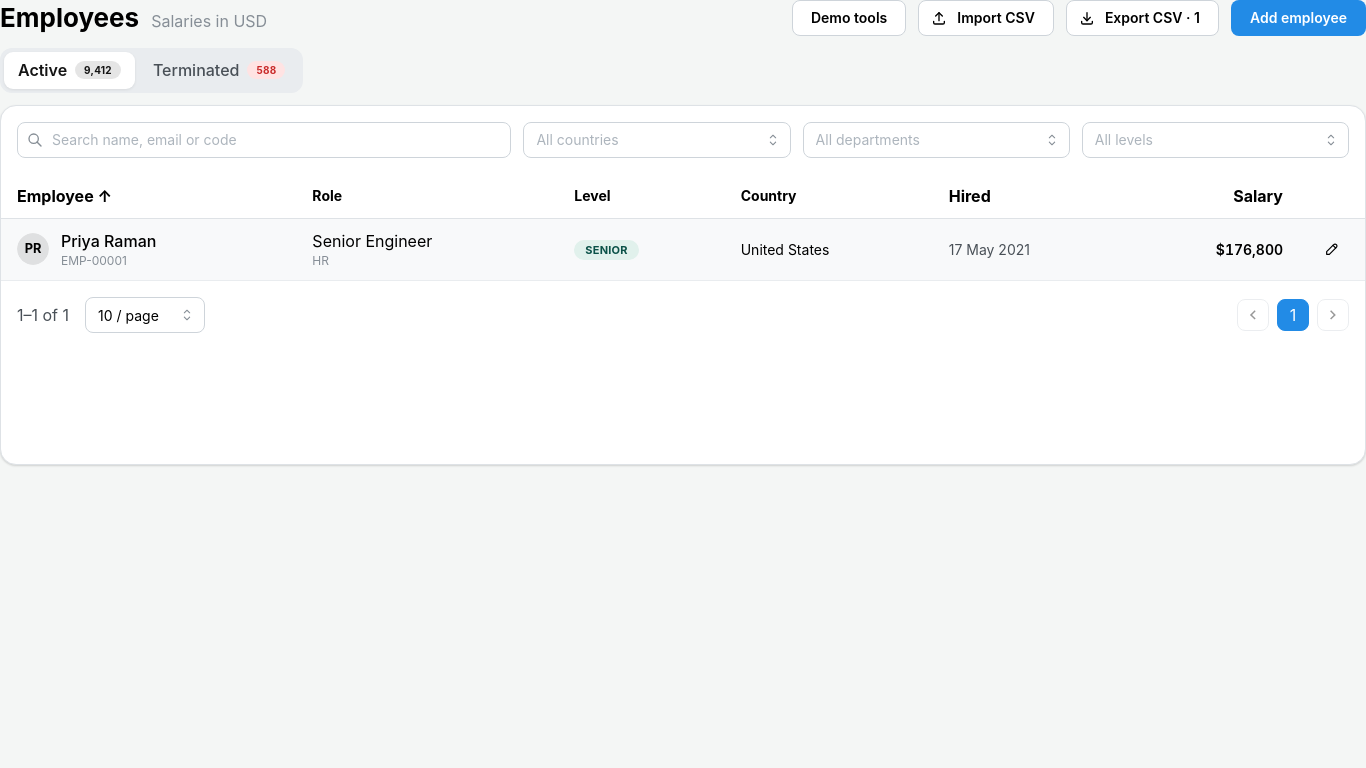
it: EmployeesPage › edits a row, closes the modal and refreshes the list
Expected: the text "Priya Raman" is shown, x1=61 y1=229 x2=156 y2=253
Click the button named "Edit Priya Raman" at (1332, 249), box x1=1315 y1=232 x2=1349 y2=266
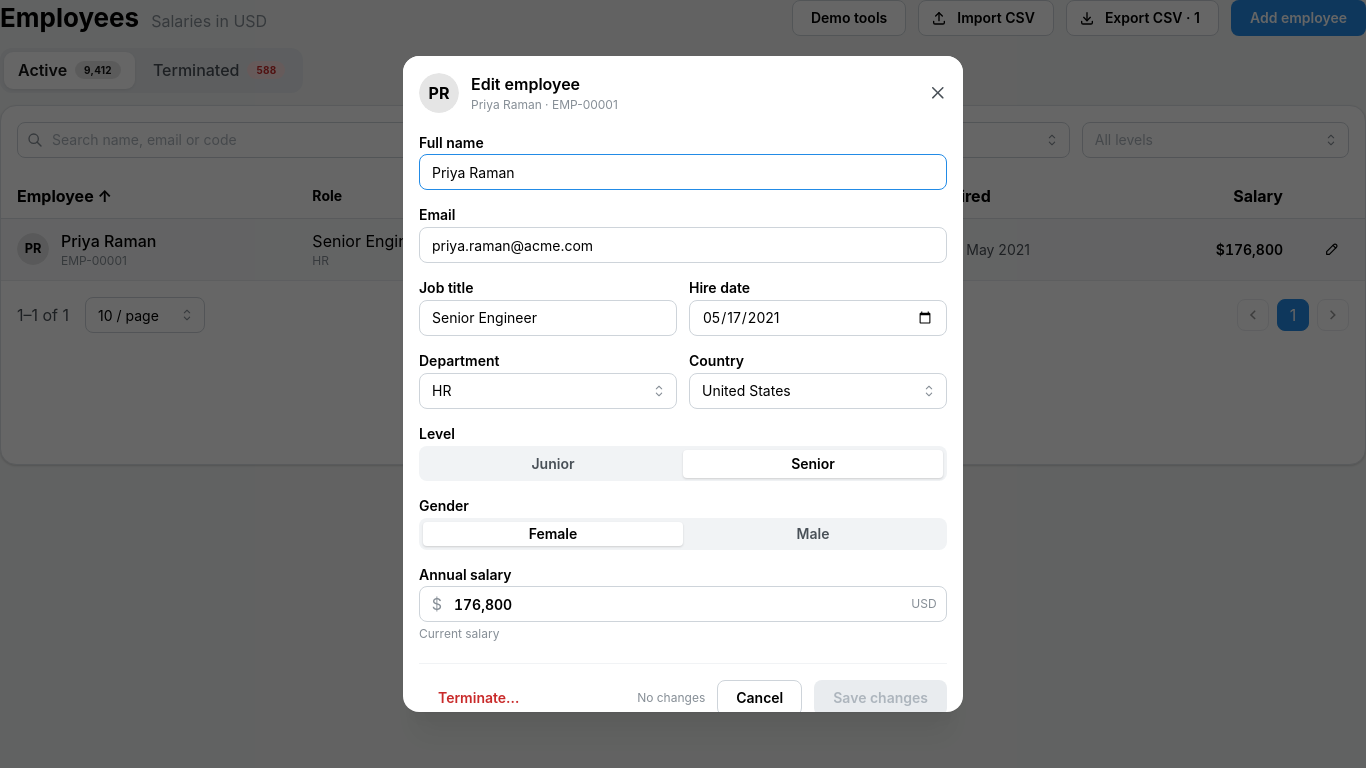
Expected: the field labelled "Full name" holds "Priya Raman", x1=419 y1=154 x2=947 y2=190
Replace the text in the field labelled "Annual salary" with "180000" at (683, 604), box x1=419 y1=586 x2=947 y2=622
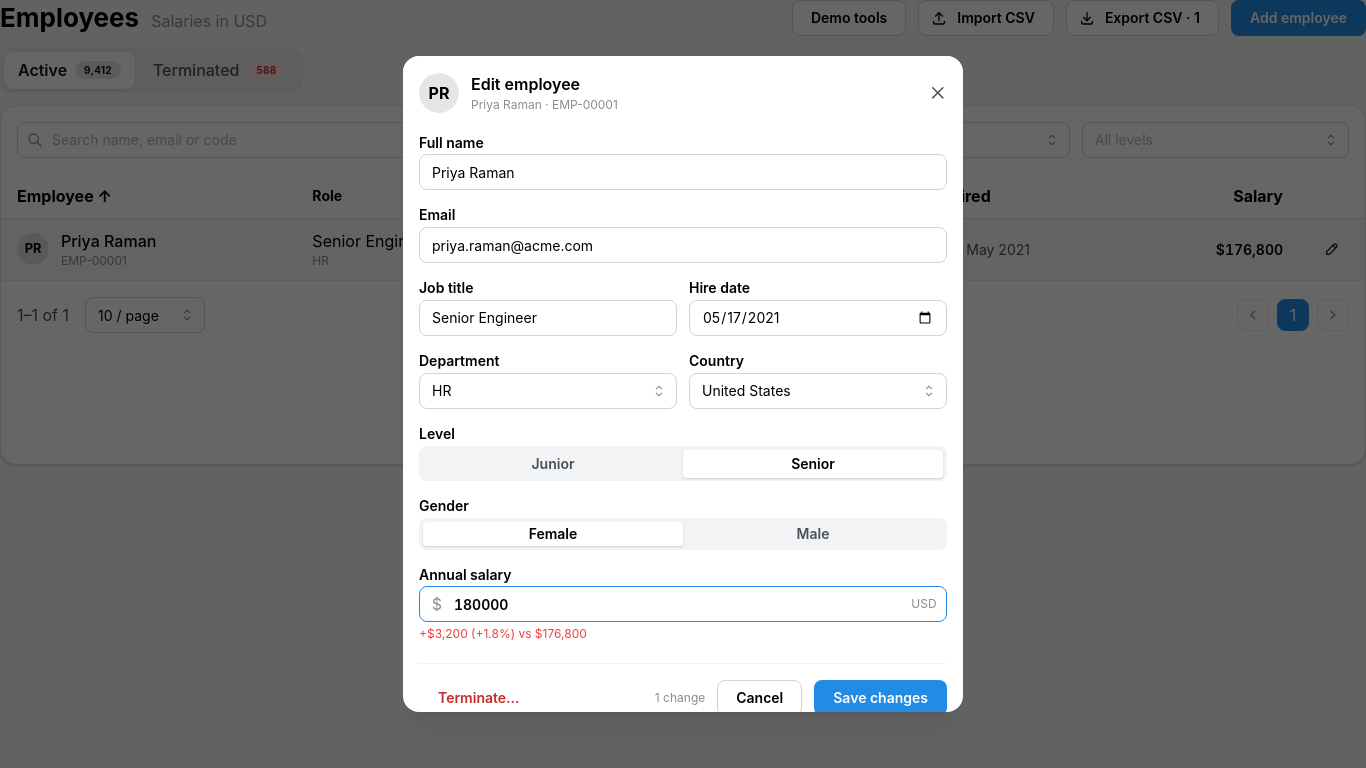
Click the button "Save changes" at (881, 698), box x1=814 y1=680 x2=947 y2=716
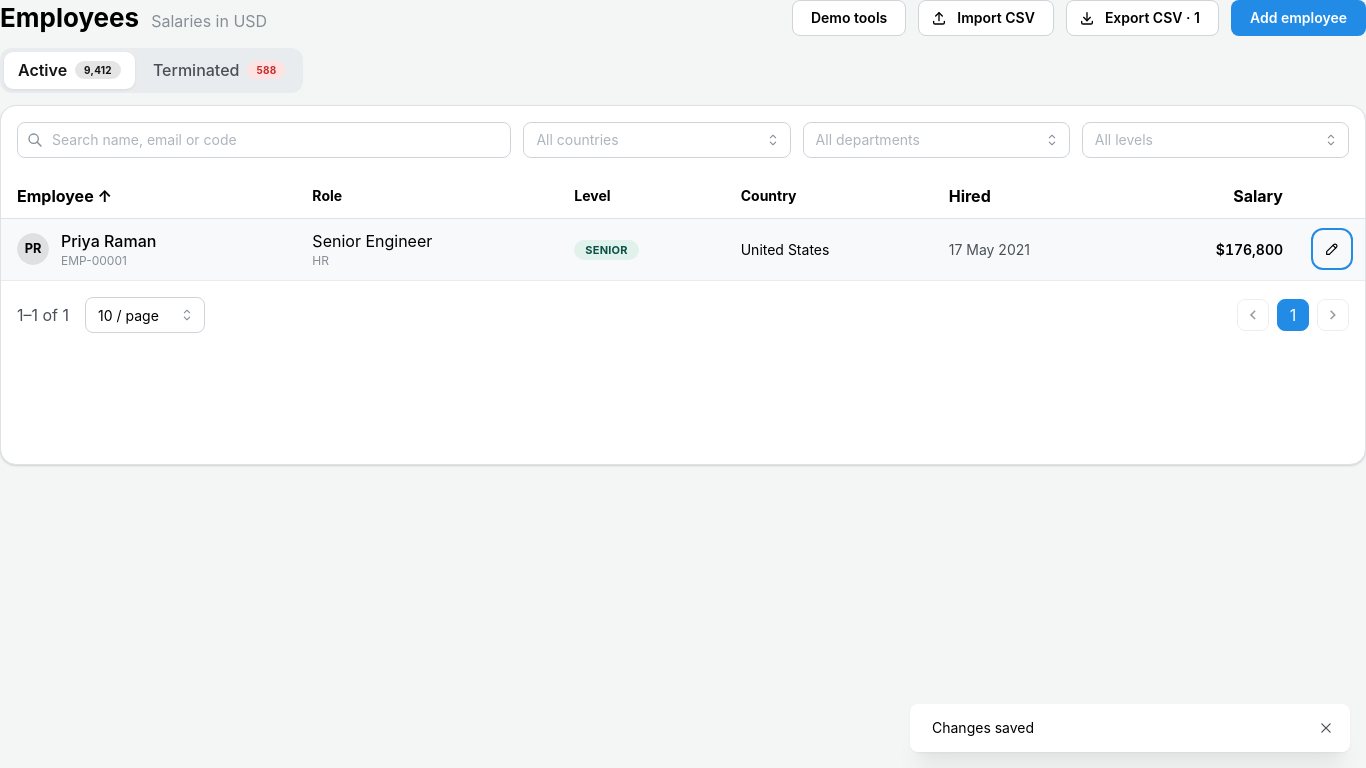
Expected: the dialog is gone
